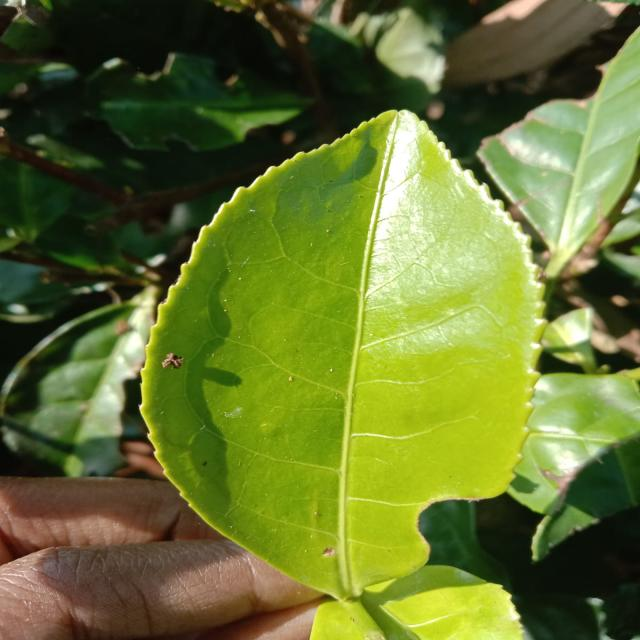Category B(2-4 days): (135, 96, 553, 621)
